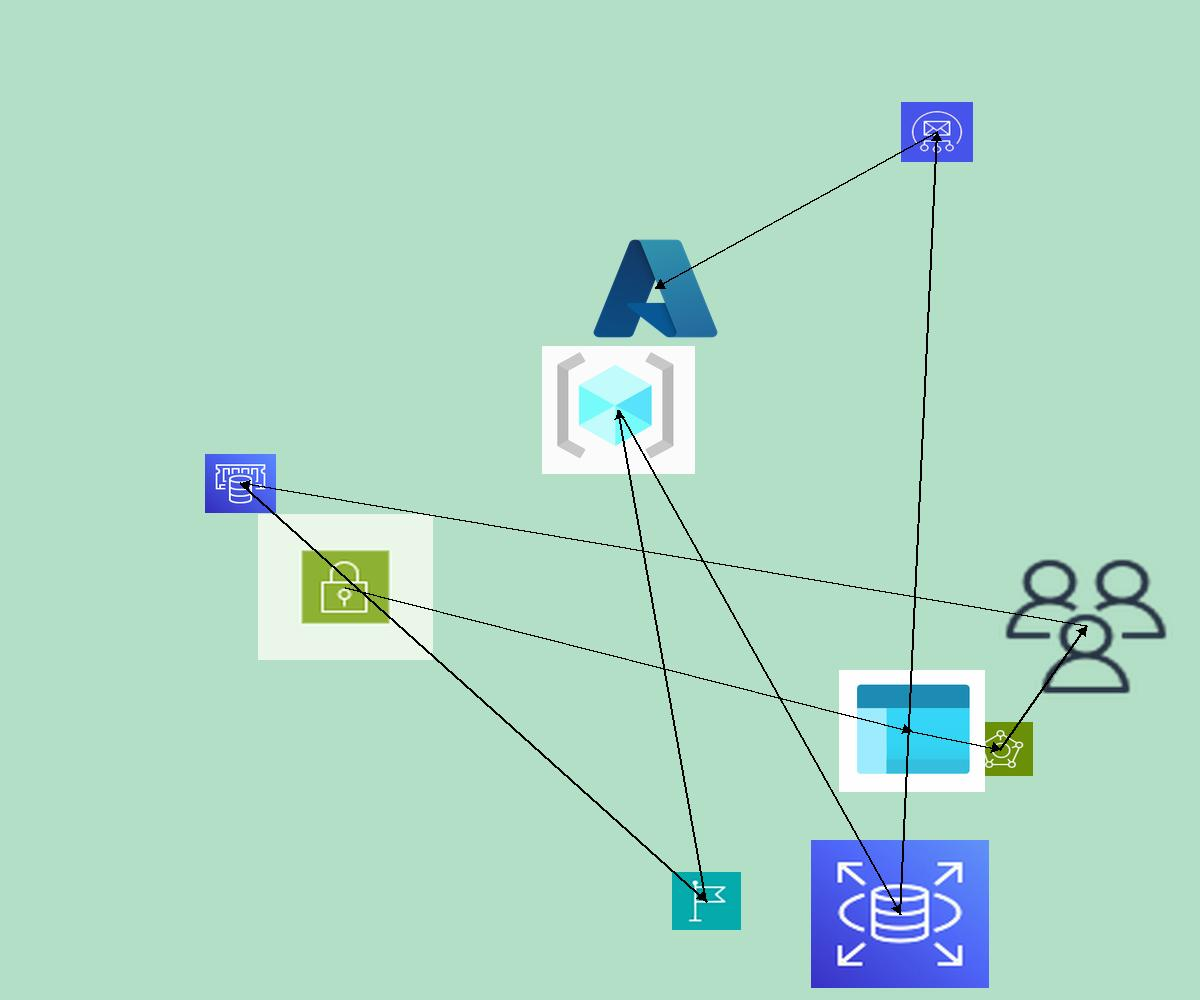AWS-Backup: (968, 722, 1033, 776)
AWS-ElastiCache: (205, 454, 276, 513)
AWS-Public-subnet: (258, 514, 433, 660)
AWS-RDS: (811, 840, 989, 988)
AWS-Region: (672, 872, 741, 930)
AWS-Res_Users: (999, 554, 1173, 699)
AWS-Simple-Email-Service: (901, 102, 973, 162)
Azure_management-portal: (839, 670, 985, 792)
Azure_resource_group: (542, 346, 695, 474)
Azure_services: (588, 232, 723, 345)
